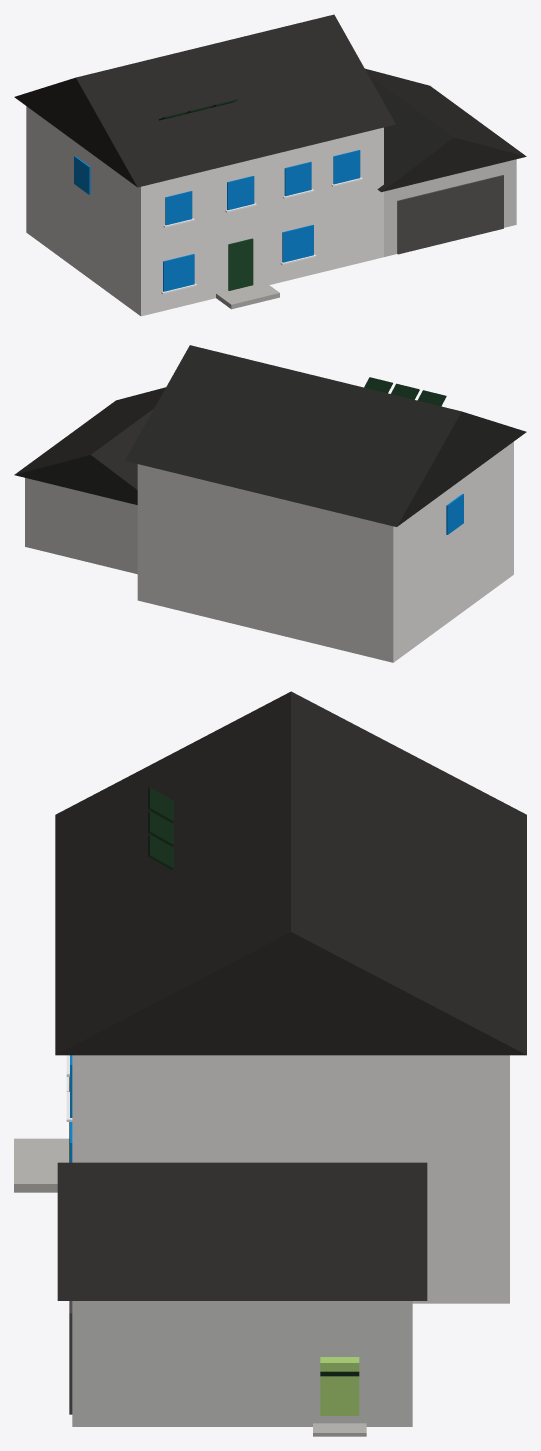
File: house-suburban.glb
The picture shows the model from 3 angles, top to bottom: view 1: azimuth 30°, elevation 25°; view 2: azimuth 150°, elevation 25°; view 3: azimuth 270°, elevation 25°; orthographic projection. The views are drawn at different scales.
Parts seen in each view (by area): view 1: Walls, Roof, GarageRoof, GarageDoor, Garage, Door, Stoop, Window.001, Window, Window.002, Window.005, Window.004 (+2 smaller); view 2: Walls, Roof, GarageRoof, Garage, Window.006; view 3: Roof, Walls, GarageRoof, Garage, Stoop, Battery.
Boxes of the visible parts, <box> form: Walls: <box>26,106,383,316</box>; Roof: <box>14,14,395,187</box>; GarageRoof: <box>365,68,526,192</box>; GarageDoor: <box>397,175,503,254</box>; Garage: <box>384,159,516,256</box>; Door: <box>228,238,253,290</box>; Stoop: <box>216,281,279,309</box>; Window.001: <box>282,225,313,262</box>; Window: <box>163,254,194,291</box>; Window.002: <box>165,191,192,225</box>; Window.005: <box>333,150,360,184</box>; Window.004: <box>284,162,311,196</box>; Walls: <box>137,441,513,662</box>; Roof: <box>125,345,526,526</box>; GarageRoof: <box>14,387,165,504</box>; Garage: <box>25,478,137,574</box>; Window.006: <box>446,494,463,534</box>; Roof: <box>55,691,526,1055</box>; Walls: <box>72,1055,509,1303</box>; GarageRoof: <box>57,1162,427,1300</box>; Garage: <box>72,1301,412,1426</box>; Stoop: <box>14,1138,69,1192</box>; Battery: <box>320,1357,359,1415</box>.
Size of the model in its own units: 17.82 by 8.6 by 10.55.
